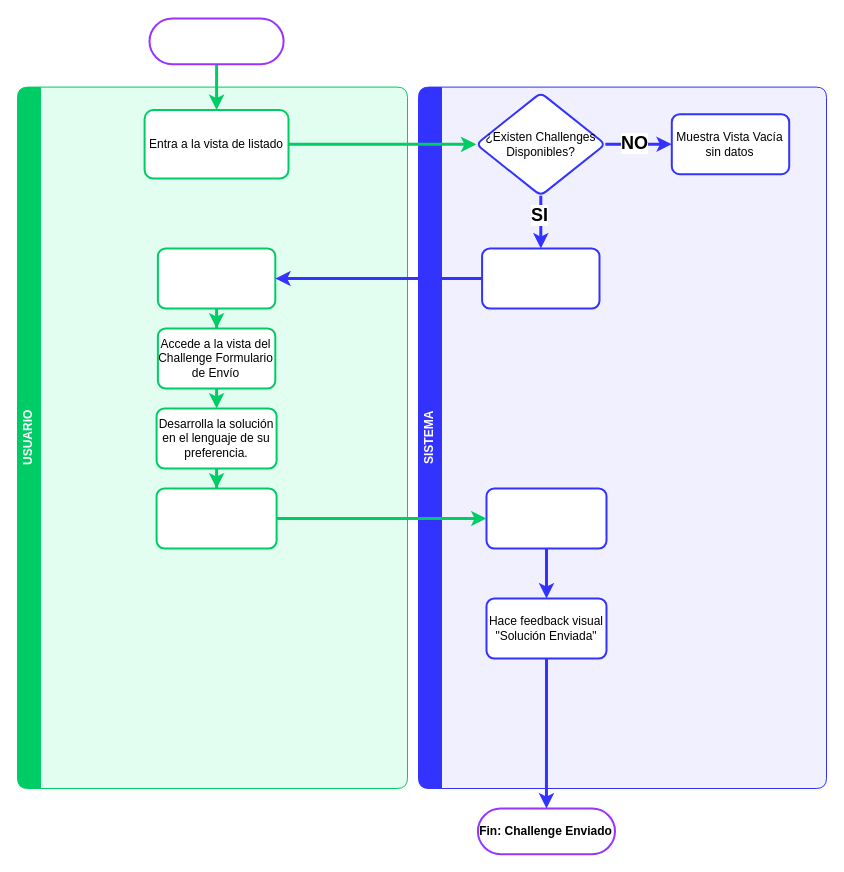
Image size: 844x872. Some labels were removed from this diagram. The shapes that lost their labels are listed below. From the top down, each one's centre as x and y in pixels, then its label:
pixel 216 41: Inicio
pixel 216 278: Navega y toma un challenge especifico
pixel 540 278: Muestra Vista con datos cargados
pixel 216 518: Envía su solución propuesta
pixel 546 518: Registra el envío del Challenge en estado "Pendiente"
